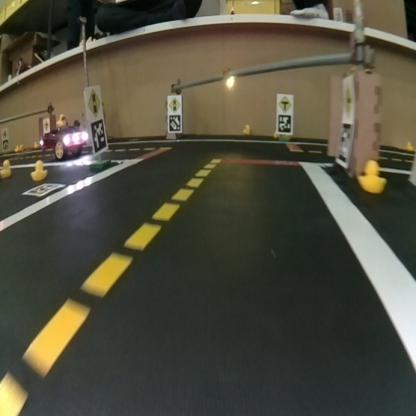duckie: (355, 149, 389, 198), (26, 156, 47, 184), (0, 155, 11, 182)
duckiebot: (35, 119, 93, 162)
